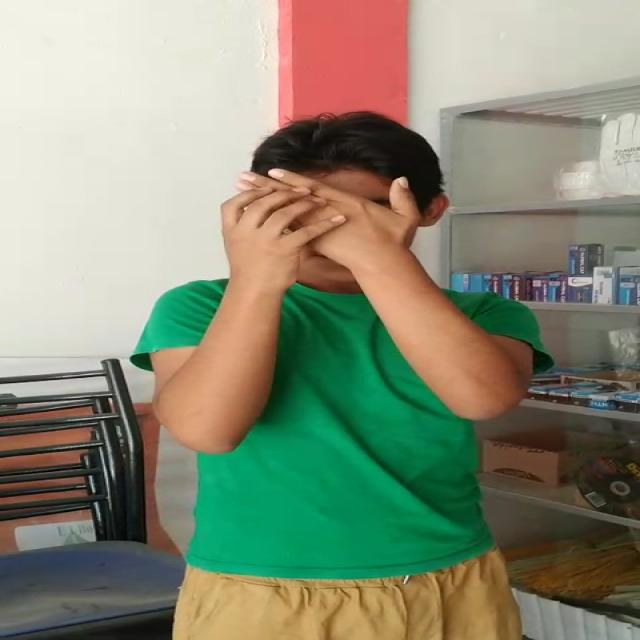7_mano_rostro: (218, 168, 423, 288)
